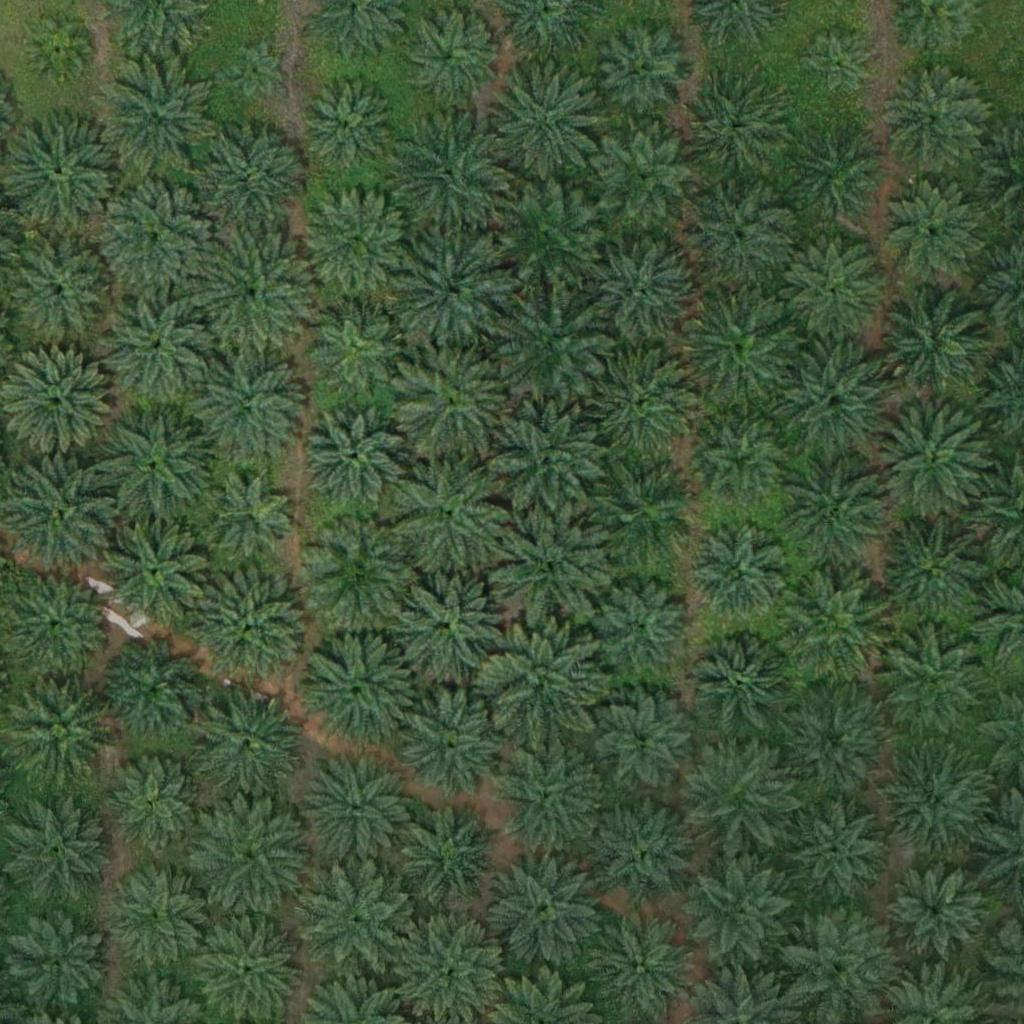Kelapa_Sawit: (488, 175, 601, 289), (394, 111, 507, 225), (495, 285, 608, 399), (780, 451, 893, 565), (878, 627, 991, 741), (881, 747, 994, 861), (394, 233, 507, 346), (97, 57, 210, 170), (101, 180, 214, 293), (3, 117, 116, 230), (3, 347, 116, 460), (96, 292, 209, 405), (99, 406, 212, 519), (100, 511, 213, 624), (194, 571, 307, 684), (304, 630, 417, 743), (395, 346, 508, 459), (490, 405, 603, 518), (492, 511, 605, 624), (486, 626, 599, 739), (684, 284, 797, 397), (781, 344, 894, 457), (875, 405, 988, 518), (877, 514, 990, 627), (685, 857, 798, 970), (583, 906, 696, 1019), (300, 752, 413, 865), (304, 868, 417, 981), (191, 687, 304, 800), (196, 801, 309, 914), (583, 236, 695, 350), (1, 672, 113, 786), (591, 344, 703, 458), (781, 576, 893, 690), (682, 181, 794, 294), (490, 61, 602, 174), (301, 188, 413, 301), (195, 122, 307, 235), (197, 235, 309, 348), (3, 236, 115, 349), (1, 460, 113, 573), (191, 353, 303, 466), (303, 516, 415, 629), (397, 458, 509, 571), (395, 564, 507, 677), (588, 459, 700, 572), (777, 685, 889, 798), (878, 285, 990, 398), (777, 910, 889, 1023), (680, 739, 792, 852), (492, 743, 604, 856), (489, 854, 601, 967), (399, 688, 511, 801), (880, 67, 980, 168), (880, 178, 980, 279), (787, 123, 887, 224), (785, 239, 885, 340), (682, 79, 782, 180), (595, 23, 695, 124), (595, 126, 695, 227), (102, 638, 202, 739), (202, 471, 302, 572), (306, 293, 406, 394), (302, 404, 402, 505), (592, 576, 692, 677), (594, 695, 694, 796), (694, 637, 794, 738), (886, 861, 986, 962), (788, 802, 888, 903), (594, 799, 694, 900), (404, 805, 504, 906), (399, 5, 499, 105), (297, 74, 397, 174), (689, 524, 789, 624), (103, 757, 203, 857), (108, 871, 208, 971), (11, 915, 111, 1015), (695, 421, 783, 509), (798, 29, 873, 104), (27, 18, 90, 81), (224, 38, 286, 101)
